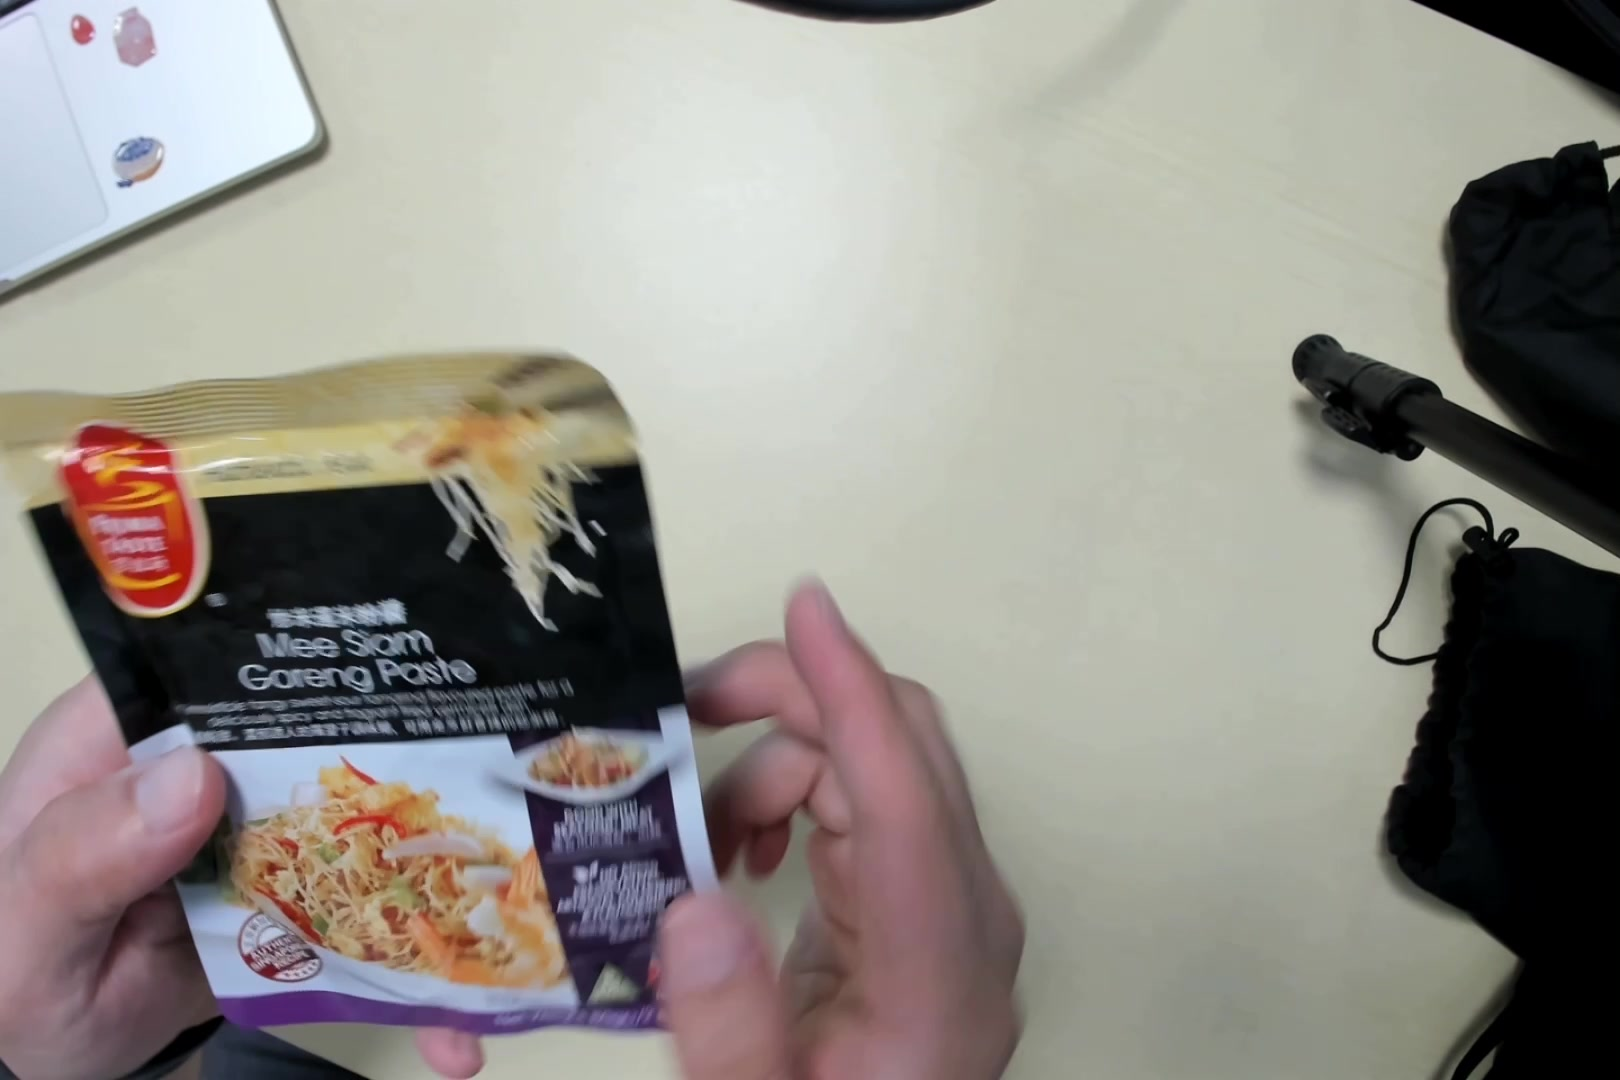CurryPastePowderSauce_0-99g_NonHalal_NonHealthy: (36, 383, 718, 1046)
